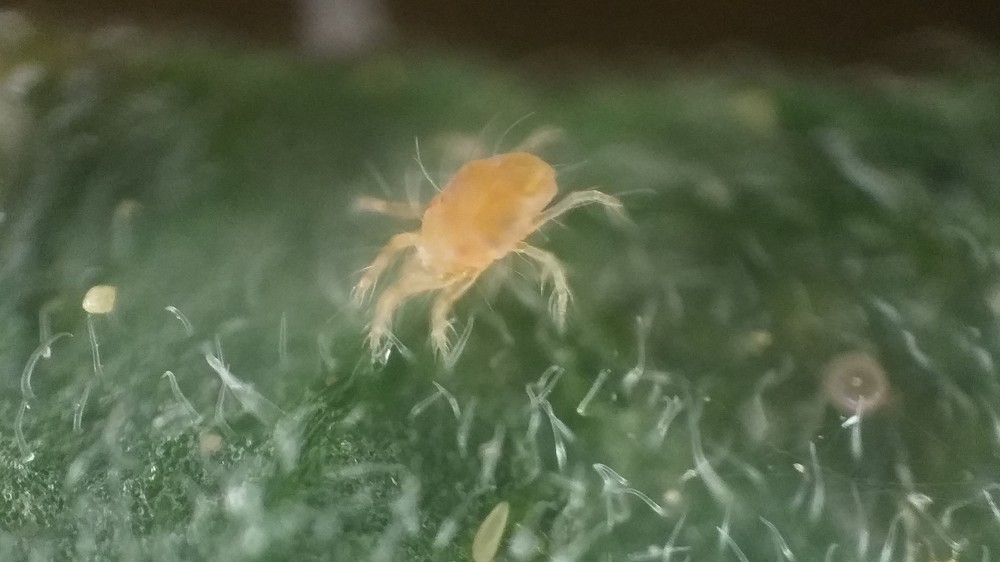Aracnido Rojo: (327, 116, 658, 378)
